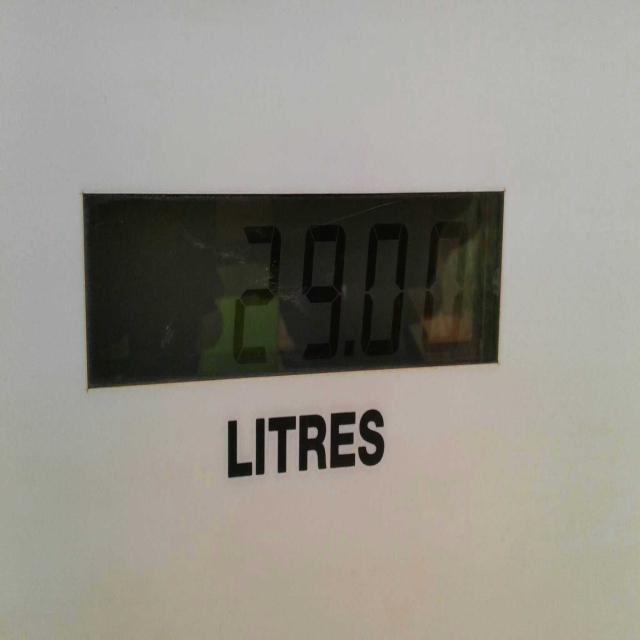.: (346, 347, 356, 371)
0: (422, 217, 466, 353), (365, 211, 403, 361)
2: (234, 218, 280, 361)
9: (302, 224, 346, 360)
